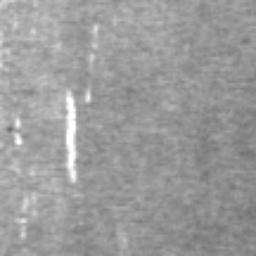White rust: (64, 89, 77, 183), (21, 192, 37, 213), (16, 218, 27, 238), (13, 132, 23, 146), (13, 116, 22, 129), (84, 90, 91, 103), (92, 24, 99, 36), (89, 53, 95, 62)
